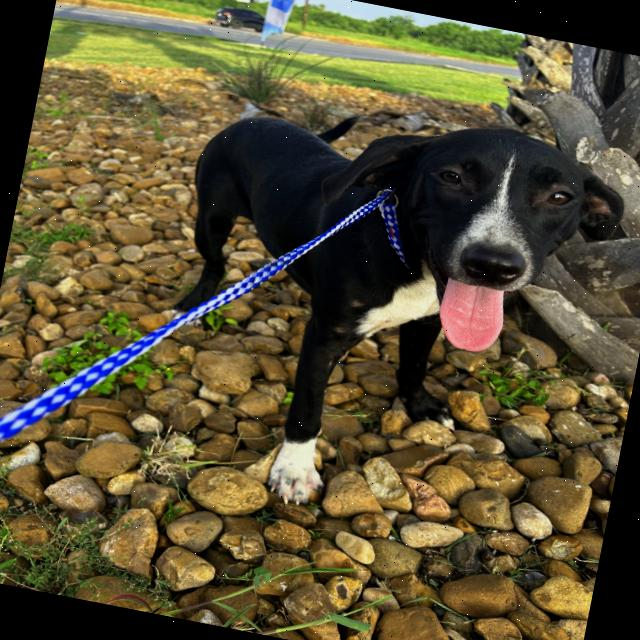labrador_retriever_dog: (301, 81, 640, 387)
